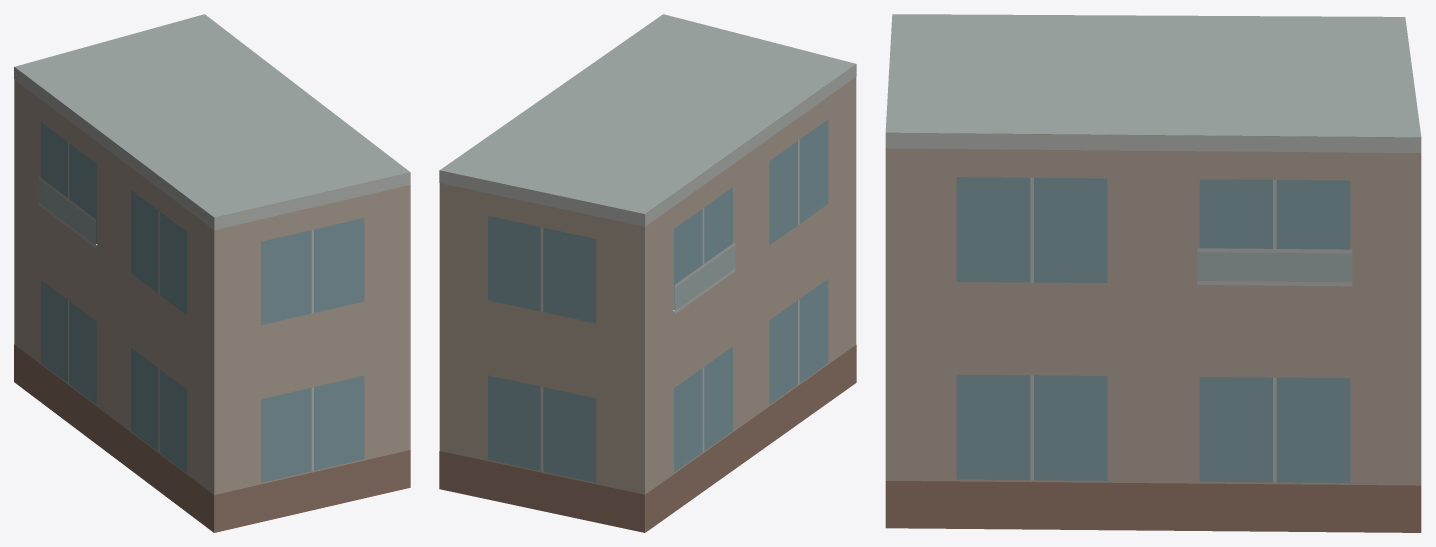
Rendered from survey-upis-32814608.glb.
The picture shows the model from 3 angles, left to right: view 1: azimuth 30°, elevation 25°; view 2: azimuth 150°, elevation 25°; view 3: azimuth 270°, elevation 25°; orthographic projection. The views are drawn at different scales.
Parts seen in each view (by area): view 1: survey-upis-32814608.tmp; view 2: survey-upis-32814608.tmp; view 3: survey-upis-32814608.tmp.
Part boxes in pixels (bbox=[...]): survey-upis-32814608.tmp: bbox=[14, 14, 410, 532]; survey-upis-32814608.tmp: bbox=[439, 14, 856, 532]; survey-upis-32814608.tmp: bbox=[885, 14, 1421, 532].
Size of the model in its own units: 4.1 by 6.1 by 7.5.
